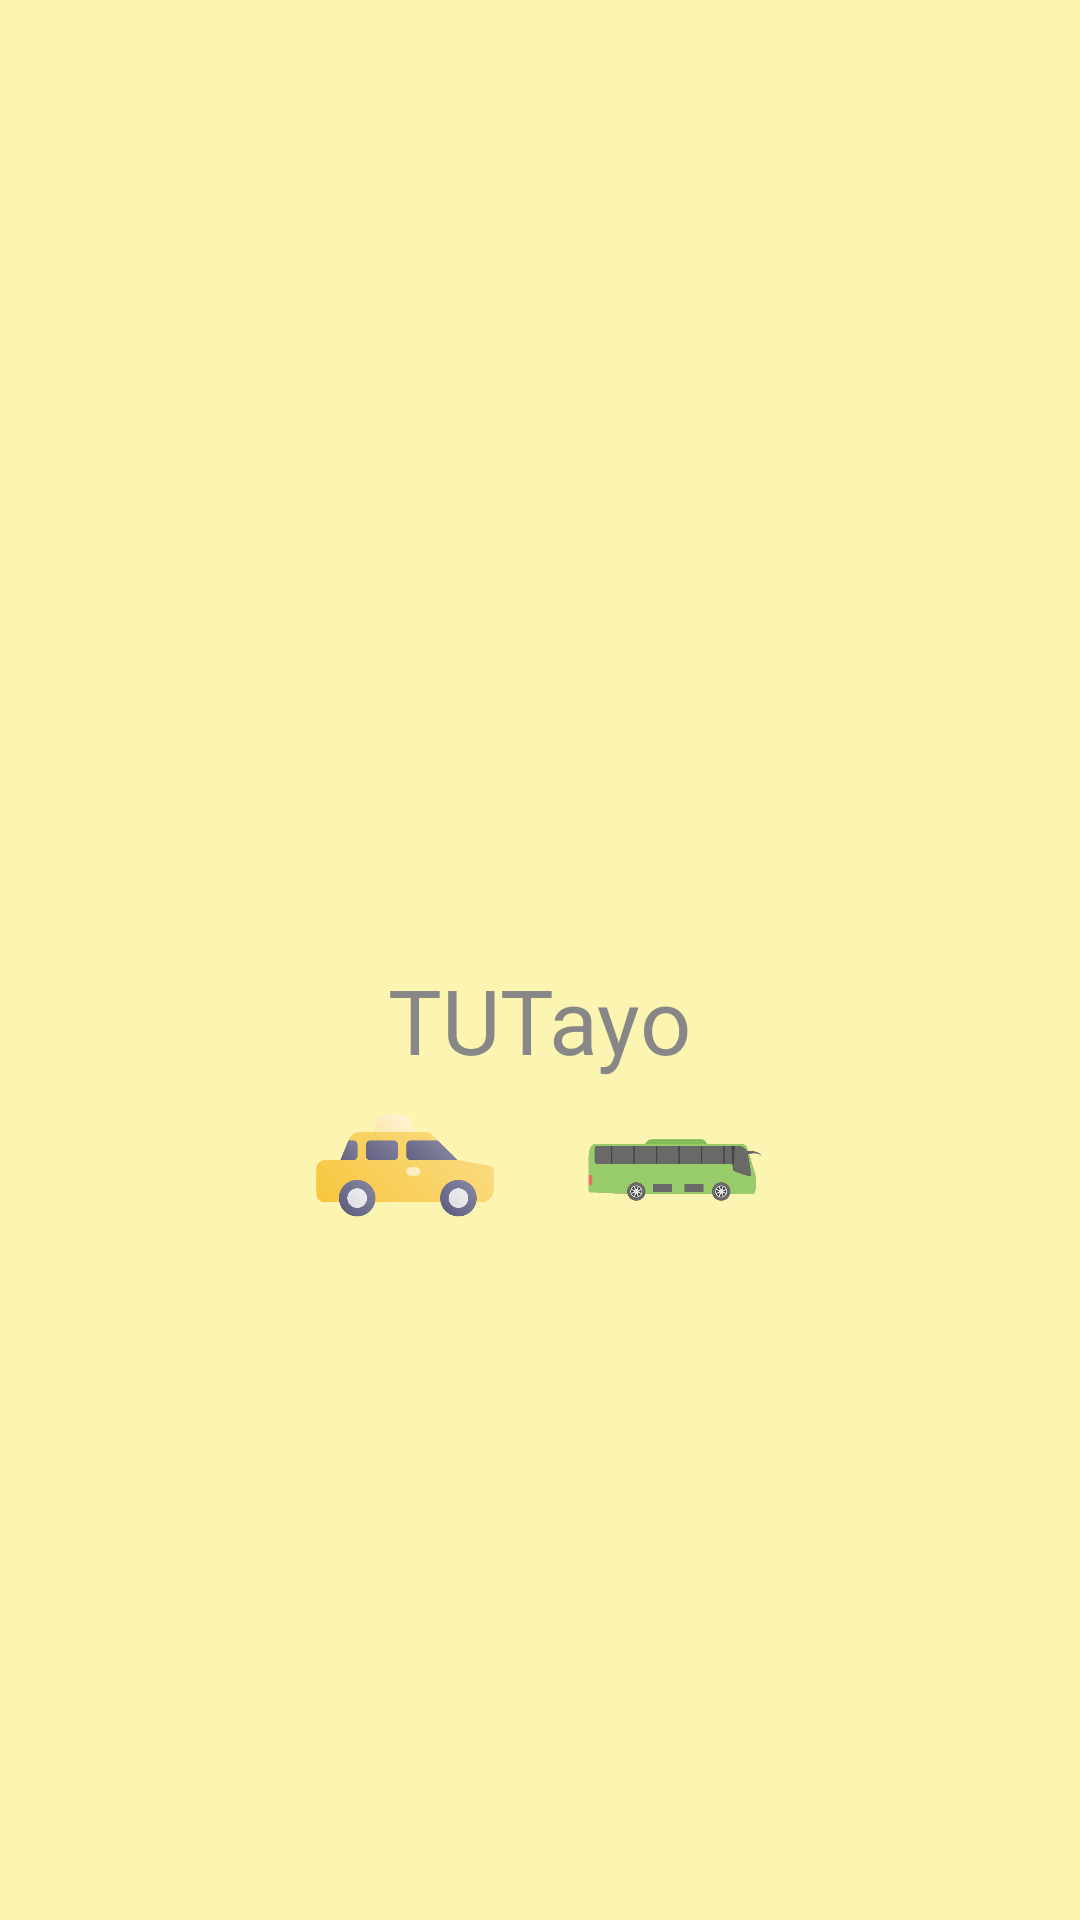

Screen size 1080 × 1920. Icon name, then its box in pixels as [left=x1, top=y1, right=x2, bottom=y2]:
bus: [left=588, top=1139, right=761, bottom=1201]
taxi: [left=316, top=1115, right=494, bottom=1217]
